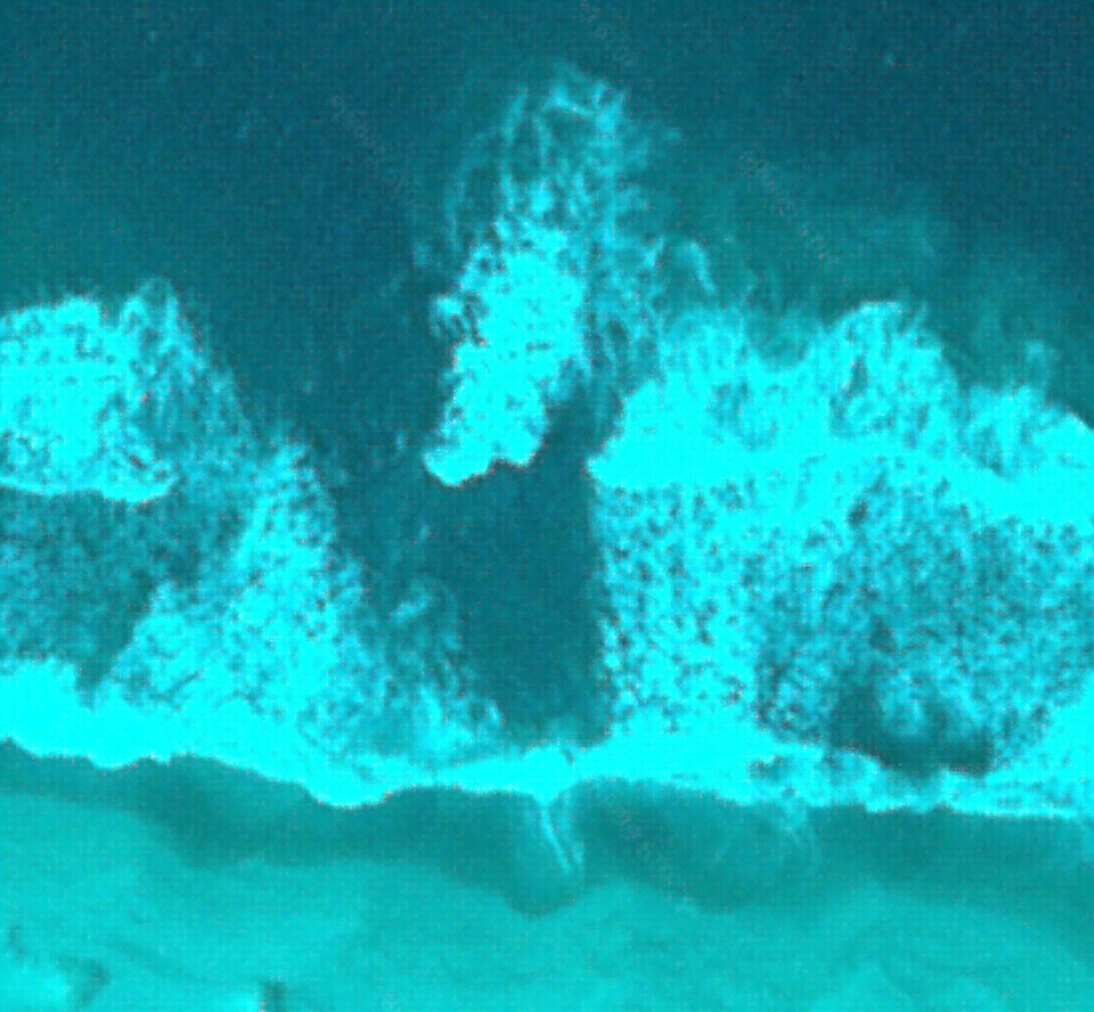rip_current: (193, 151, 635, 713)
